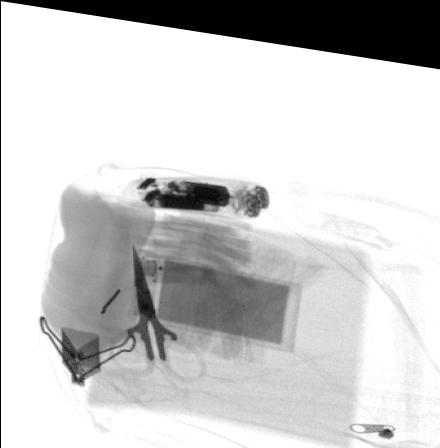Powerbank: (122, 244, 301, 344)
Scissors: (104, 237, 206, 377)
